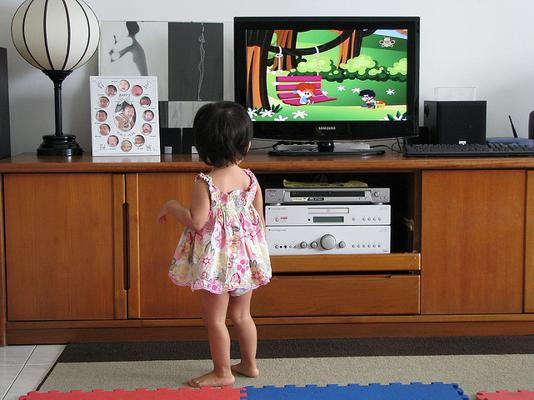person: (158, 101, 274, 388)
